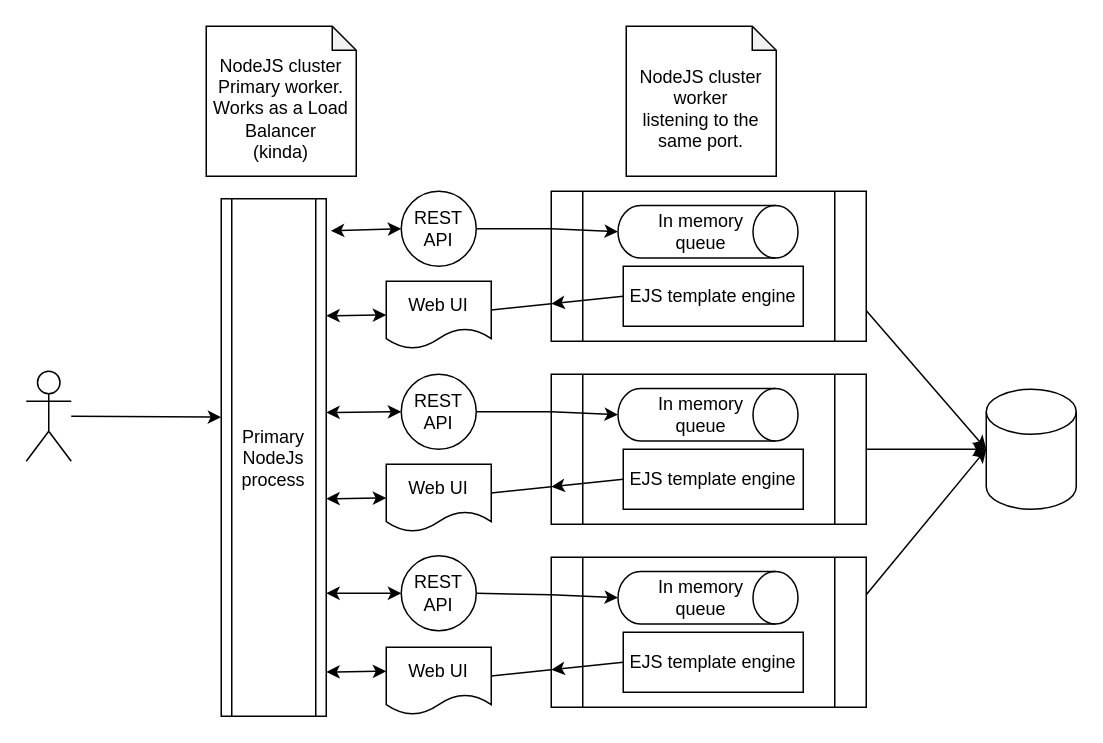
Some shapes in this 1103 by 743 pixel diagram are drawn without their labels. Here are the shapes that lost their labels. From the top down, the box of each, then its label:
(25, 370, 71, 461): Actor
(985, 388, 1076, 509): Postgres DB
